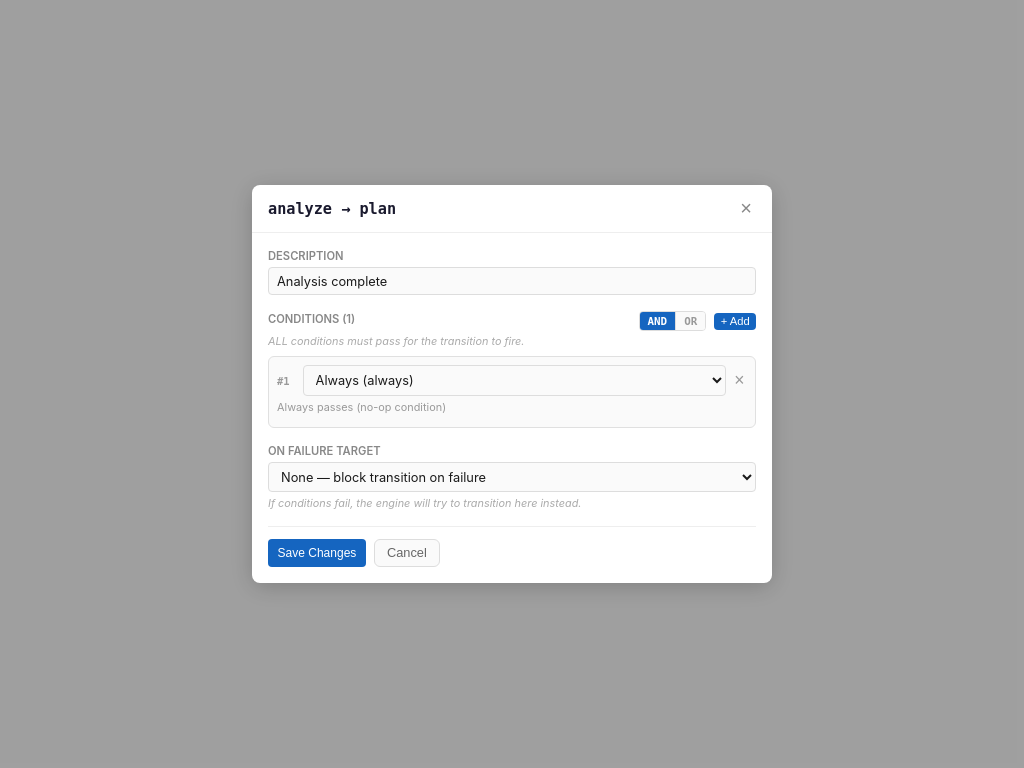
EdgeEditor › logic toggle › switches to OR mode and shows ANY hint
The width and height of the screenshot is (1024, 768).
Click the button "OR" at point(691, 321), box [676,312,705,330]
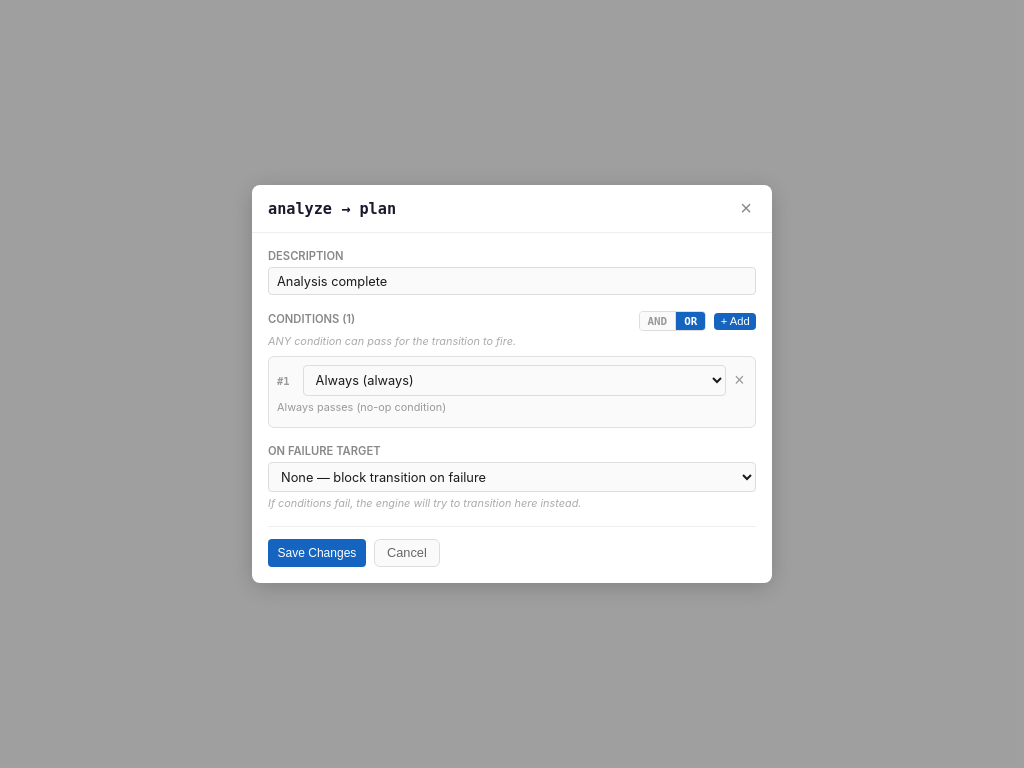
Check: the text "ANY condition can pass for the transition to fire." is shown, box [268,334,516,348]
